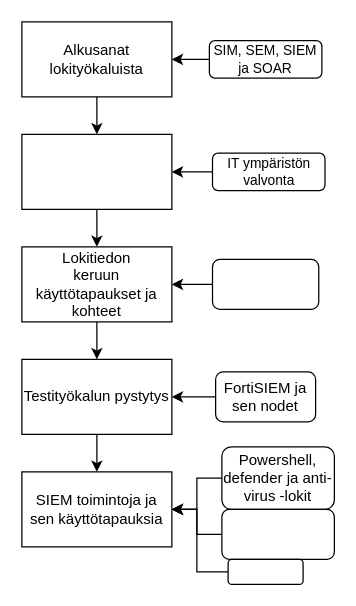
This 356x606 diagram has some shape labels left out. Here are the shapes that lost their labels. From the top down, the centre of each, then its label:
At pixel 96 171: "SIEMin tarve IT-teollisuudessa".
At pixel 265 283: "MSP:n ja web palvelutuottajan näkökulma".
At pixel 277 533: "SIEM sääntöjen räätälöinti".
At pixel 265 571: "Hälyt".
